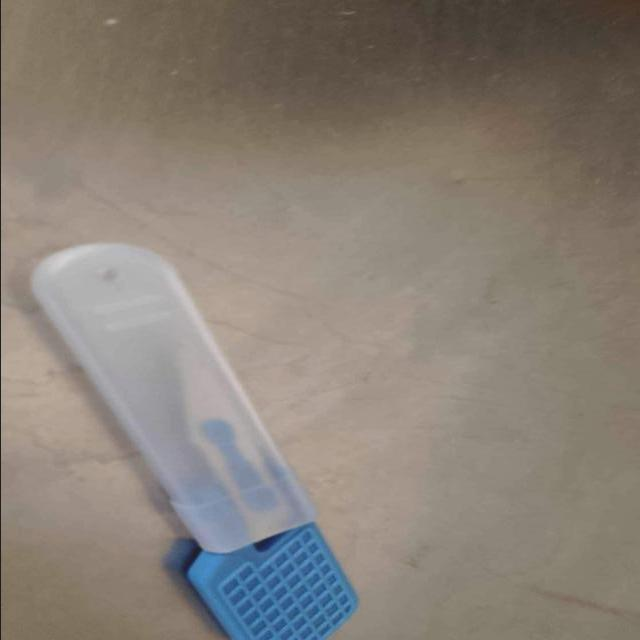General: (182, 520, 361, 638)
Sharps: (28, 240, 361, 638)
